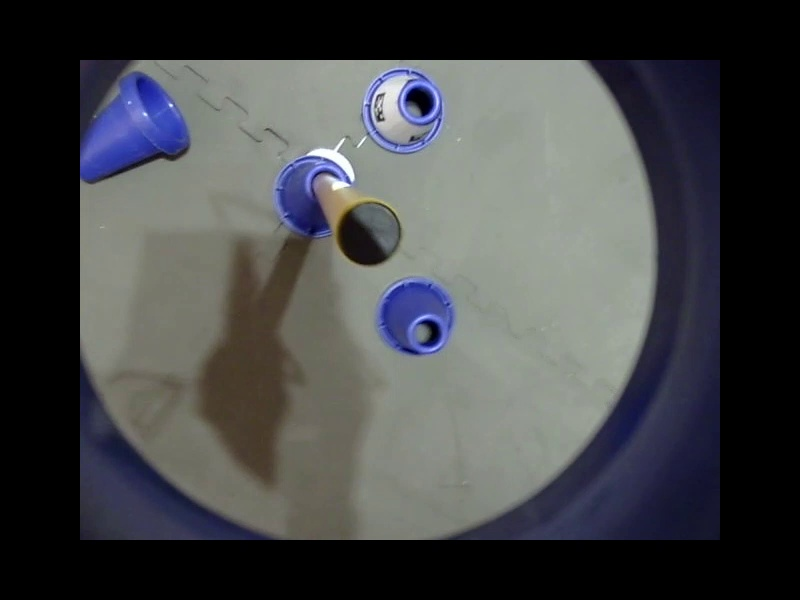tip: (333, 194, 408, 270)
